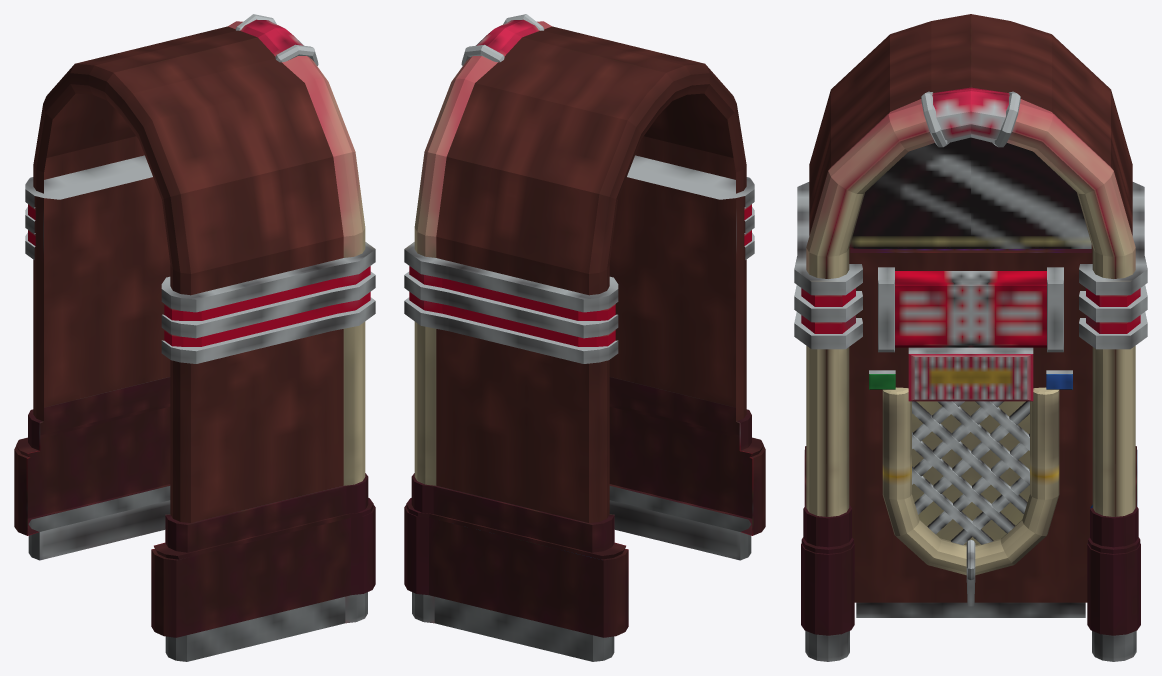
File: E_JukeBox.fbx
3 views of the same model, side by side, from view 1: azimuth 30°, elevation 25°; view 2: azimuth 150°, elevation 25°; view 3: azimuth 270°, elevation 25° (orthographic). The views are drawn at different scales.
Visible parts, largest first — view 1: Torus.008; view 2: Torus.008; view 3: Torus.008.
Boxes of the visible parts, box(x1,y1,x2,y2) form: Torus.008: box(14, 14, 375, 661); Torus.008: box(404, 14, 765, 661); Torus.008: box(794, 14, 1147, 661).
Bounding box in the file's own units: 177 × 418 × 239.
